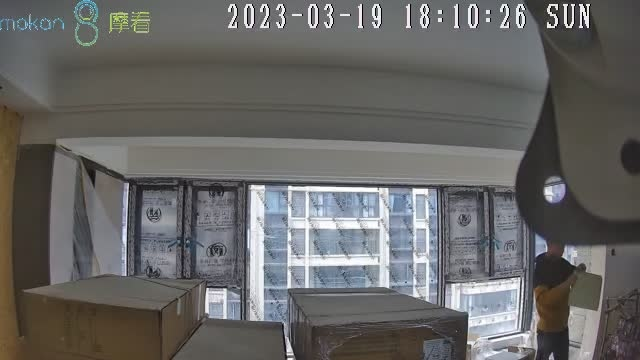people: (532, 237, 587, 360)
window: (128, 179, 531, 339)
